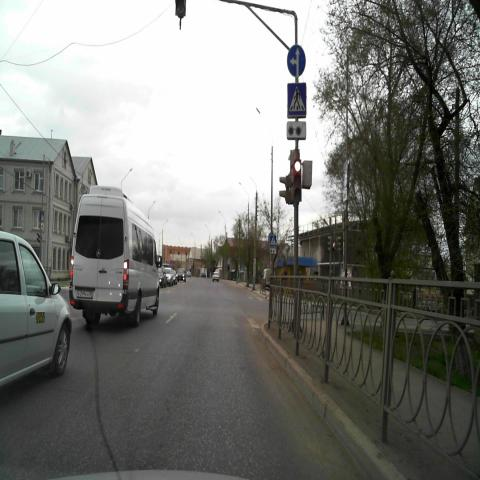4_1_5: (287, 44, 307, 81)
8_15: (286, 120, 306, 139)
